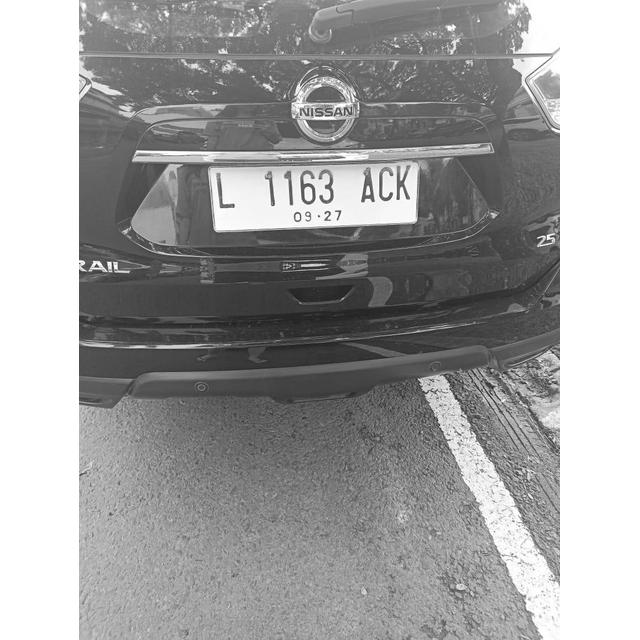license: (214, 162, 413, 227)
